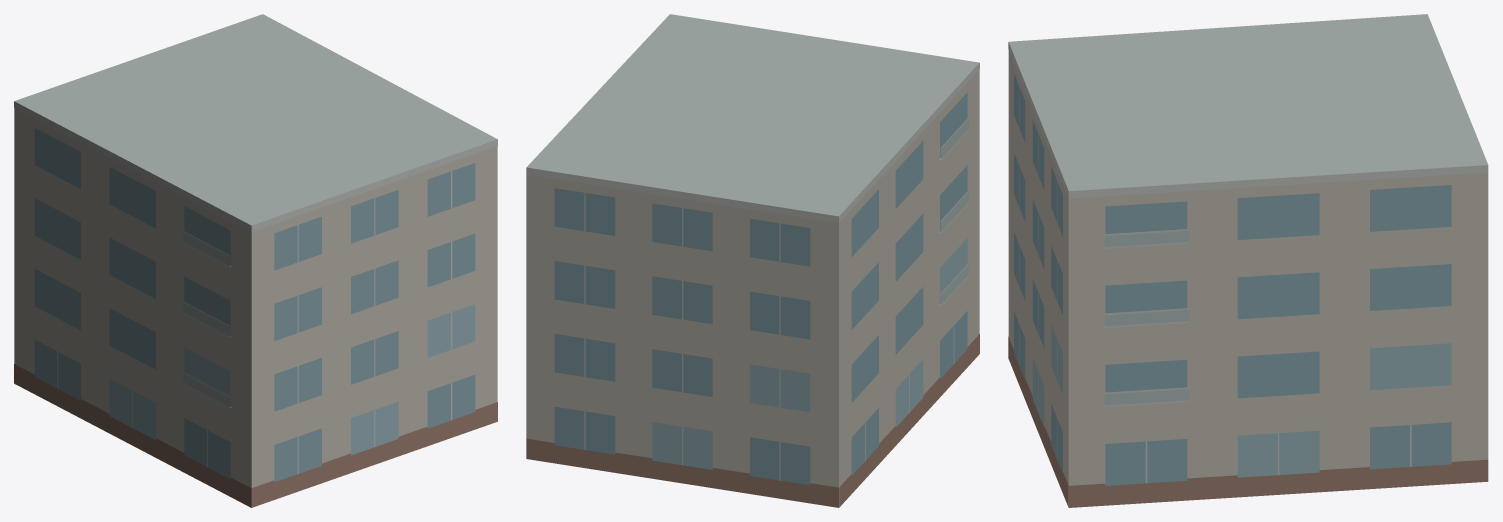
The model's file is survey-upis-32523725.glb.
3 views of the same model, side by side, from view 1: azimuth 30°, elevation 25°; view 2: azimuth 150°, elevation 25°; view 3: azimuth 270°, elevation 25° (orthographic). The views are drawn at different scales.
Visible parts, largest first — view 1: survey-upis-32523725.tmp; view 2: survey-upis-32523725.tmp; view 3: survey-upis-32523725.tmp.
Boxes of the visible parts, bbox=[...] form: survey-upis-32523725.tmp: bbox=[14, 14, 497, 507]; survey-upis-32523725.tmp: bbox=[526, 14, 979, 507]; survey-upis-32523725.tmp: bbox=[1008, 14, 1488, 507].
Size of the model in its own units: 12.61 by 10.5 by 14.43.
